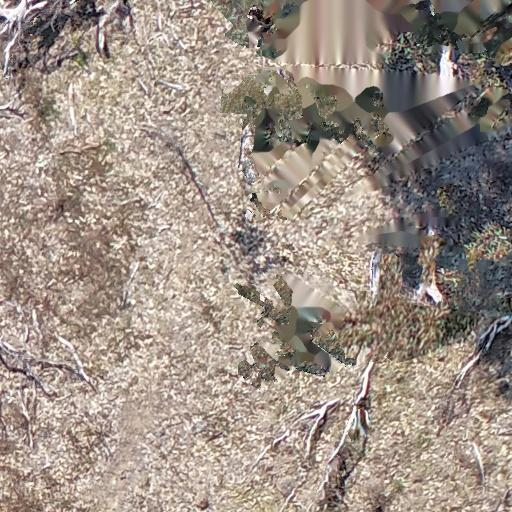stone: (194, 492, 210, 508)
